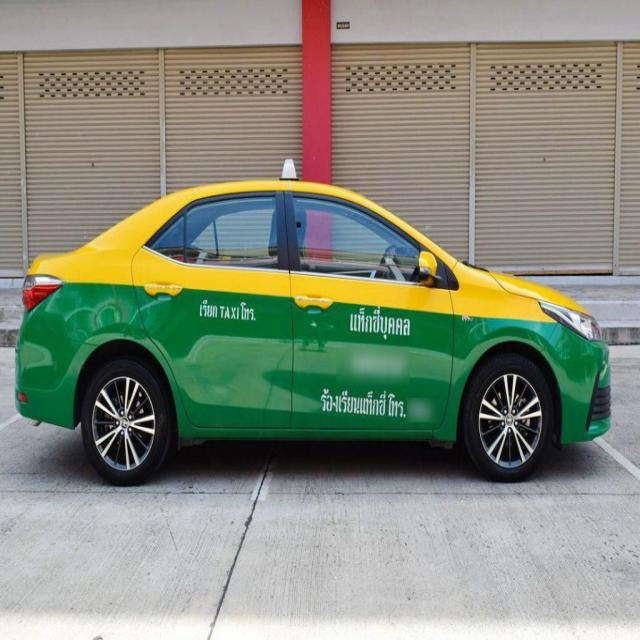back_right_door: (132, 190, 293, 428)
back_right_light: (22, 273, 66, 314)
front_right_door: (282, 190, 454, 431)
front_right_light: (539, 300, 602, 342)
right_mirror: (419, 250, 438, 276)
wheel: (81, 358, 553, 490)
